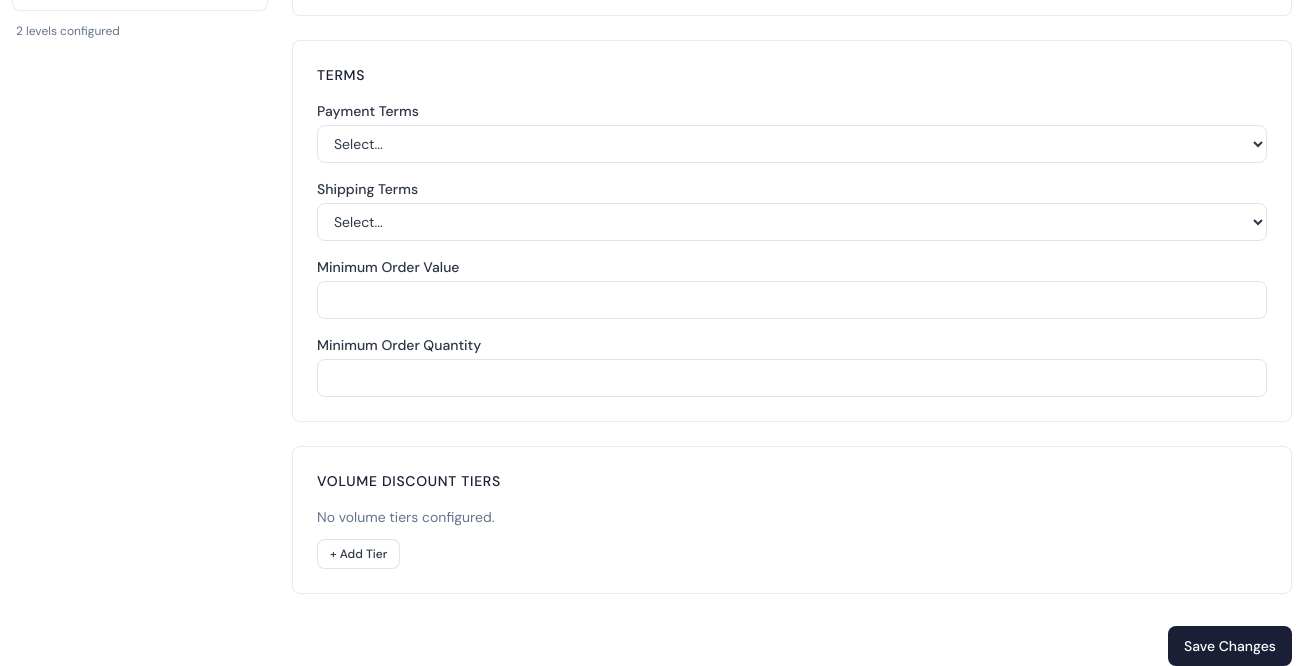
Test case: PricingPage — save and reset report the response (SEC-web-account-2-04) › Save: a 403 shows the error and no "Saved" toast
The image size is (1304, 666).
(page scrolled)
Click the button "Save Changes" at coordinates (1230, 646), box [1168,626,1292,665]
(page scrolled)
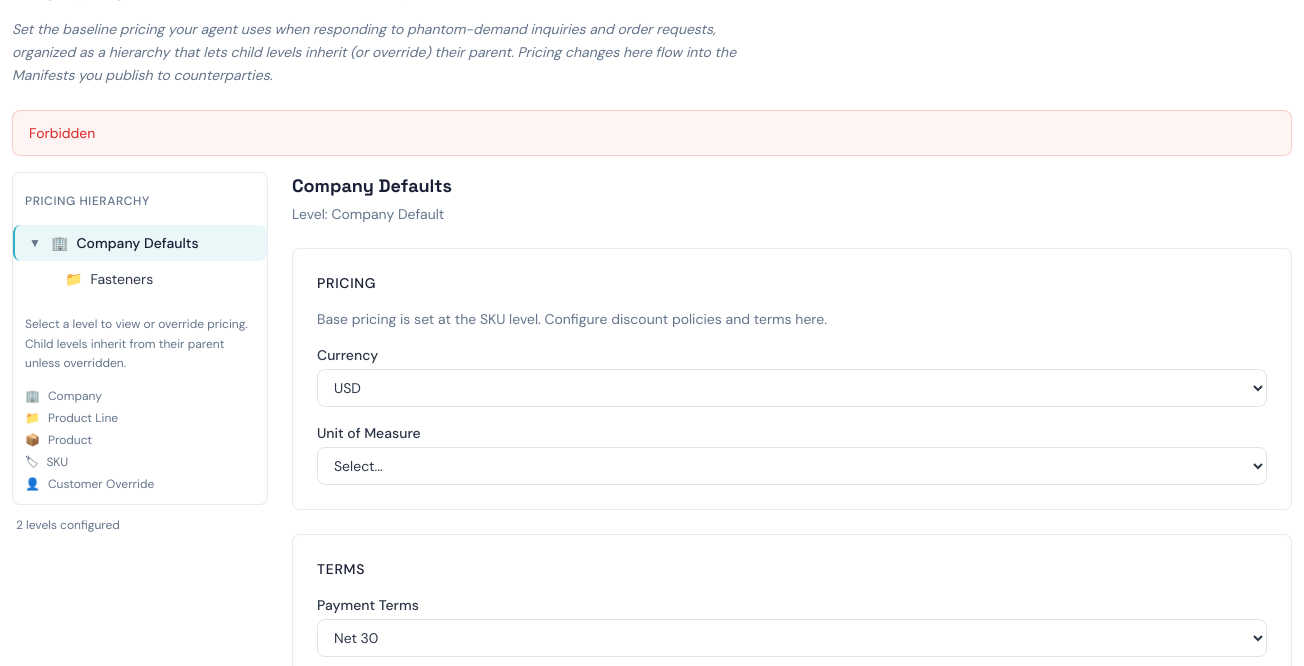
Now the message reads "Forbidden", box [29,124,95,142]
